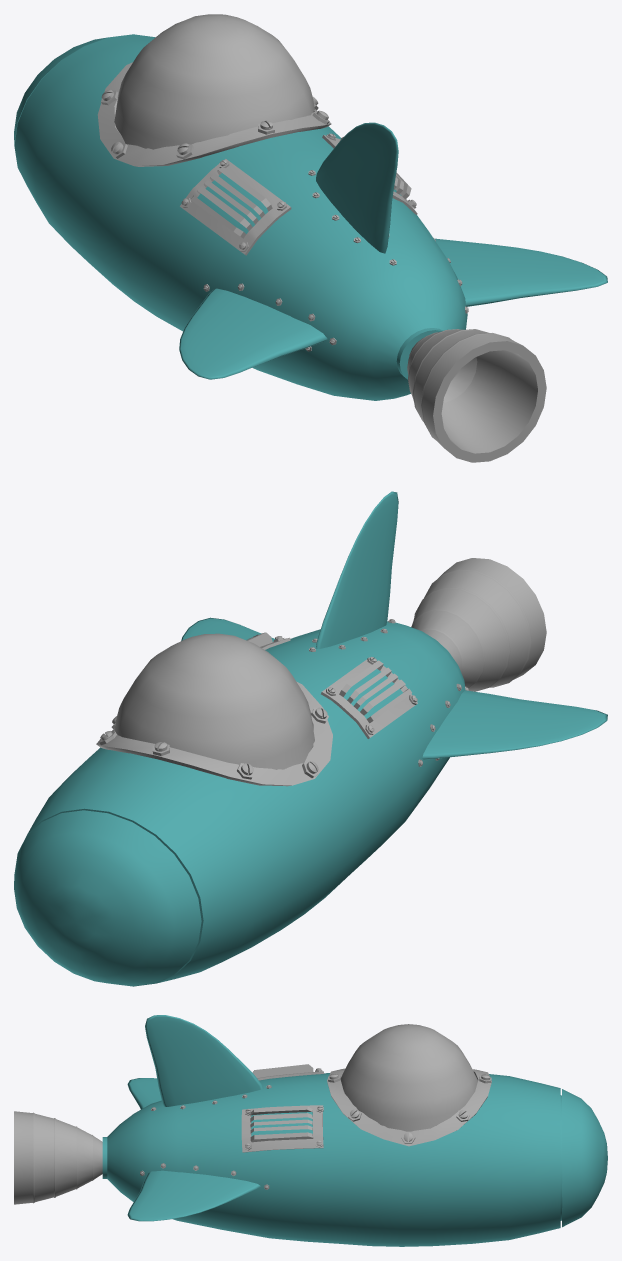
Rendered from PlayerF.fbx.
3 views of the same model, one above another, from view 1: azimuth 30°, elevation 25°; view 2: azimuth 150°, elevation 25°; view 3: azimuth 270°, elevation 25° (orthographic). The views are drawn at different scales.
Visible parts, largest first — view 1: Fuselage, Cabin, TurbineIn2, LeftWing, VerticalStabilizer, RightWing, LeftCooler1, CabinBevel; view 2: Fuselage, Cabin, TurbineIn2, LeftWing, VerticalStabilizer, CabinBevel, LeftCooler1, RightWing; view 3: Fuselage, Cabin, VerticalStabilizer, TurbineIn2, RightWing, LeftCooler, CabinBevel, LeftWing, LeftCooler1.
Boxes of the visible parts, box(x1,y1,x2,y2) form: Fuselage: box(14, 34, 467, 400); Cabin: box(114, 14, 314, 149); TurbineIn2: box(407, 329, 546, 462); LeftWing: box(179, 288, 327, 379); VerticalStabilizer: box(316, 122, 398, 253); RightWing: box(435, 238, 607, 306); LeftCooler1: box(180, 159, 291, 255); CabinBevel: box(97, 62, 331, 166); Fuselage: box(14, 621, 465, 986); Cabin: box(114, 633, 314, 769); TurbineIn2: box(411, 558, 546, 691); LeftWing: box(422, 690, 607, 759); VerticalStabilizer: box(316, 491, 398, 648); CabinBevel: box(96, 681, 332, 786); LeftCooler1: box(321, 659, 417, 738); RightWing: box(181, 617, 275, 641); Fuselage: box(102, 1073, 607, 1246); Cabin: box(340, 1024, 477, 1131); VerticalStabilizer: box(145, 1015, 263, 1106); TurbineIn2: box(14, 1111, 102, 1204); RightWing: box(127, 1170, 260, 1221); LeftCooler: box(241, 1105, 323, 1152); CabinBevel: box(327, 1068, 491, 1146); LeftWing: box(127, 1078, 161, 1109); LeftCooler1: box(252, 1064, 324, 1080).
Bounding box in the file's own units: 4.96 × 3.57 × 8.69.
